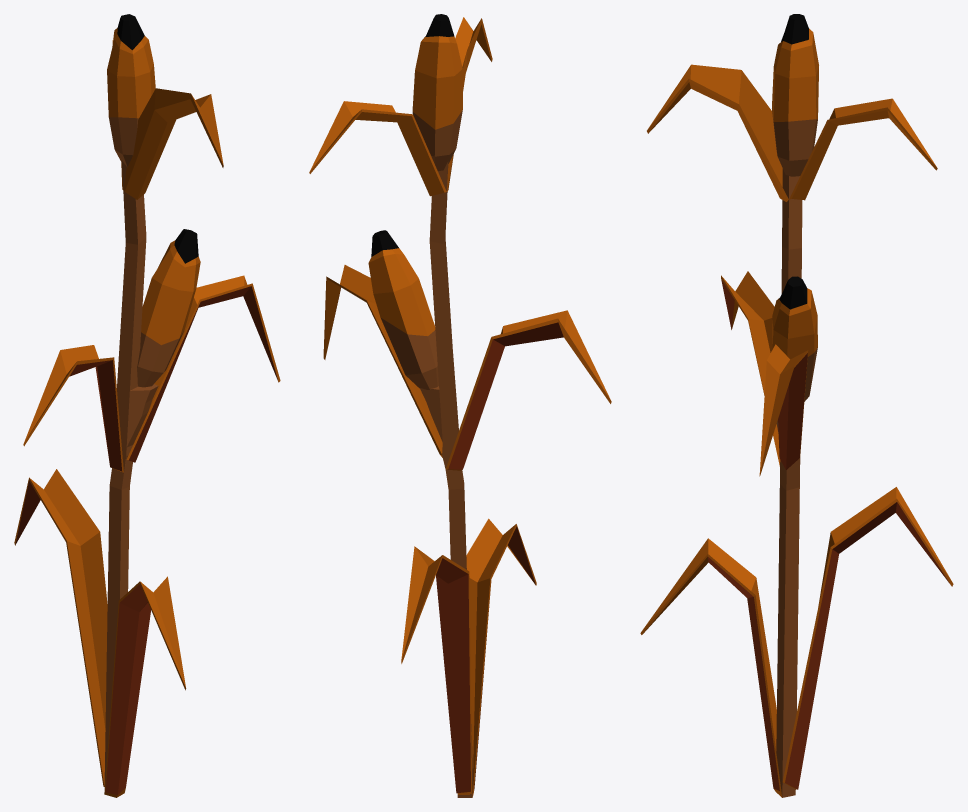
File: Corn_M_Dead.fbx
3 renders of one model, left to right at view 1: azimuth 30°, elevation 25°; view 2: azimuth 150°, elevation 25°; view 3: azimuth 270°, elevation 25°, orthographic. The views are drawn at different scales.
Parts seen in each view (by area): view 1: Corn_M_Dead, Corn_Young_Dead_01, Corn_Young_Dead_02; view 2: Corn_M_Dead, Corn_Young_Dead_01, Corn_Young_Dead_02; view 3: Corn_M_Dead, Corn_Young_Dead_02, Corn_Young_Dead_01.
Boxes of the visible parts, bbox=[...] form: Corn_M_Dead: bbox=[14, 40, 280, 797]; Corn_Young_Dead_01: bbox=[137, 229, 200, 387]; Corn_Young_Dead_02: bbox=[107, 14, 155, 166]; Corn_M_Dead: bbox=[309, 17, 611, 797]; Corn_Young_Dead_01: bbox=[368, 230, 438, 389]; Corn_Young_Dead_02: bbox=[412, 14, 462, 170]; Corn_M_Dead: bbox=[640, 64, 953, 797]; Corn_Young_Dead_02: bbox=[772, 14, 818, 176]; Corn_Young_Dead_01: bbox=[772, 276, 817, 401].
Bounding box in the file's own units: 33.17 × 89.84 × 32.43.
